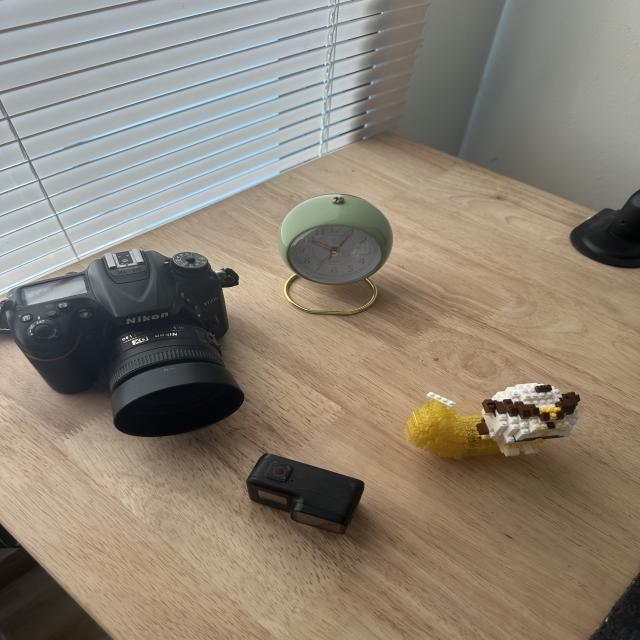actioncam: (234, 444, 387, 545)
camera: (0, 249, 256, 451)
clock: (247, 179, 416, 327)
toy: (374, 358, 606, 476)
